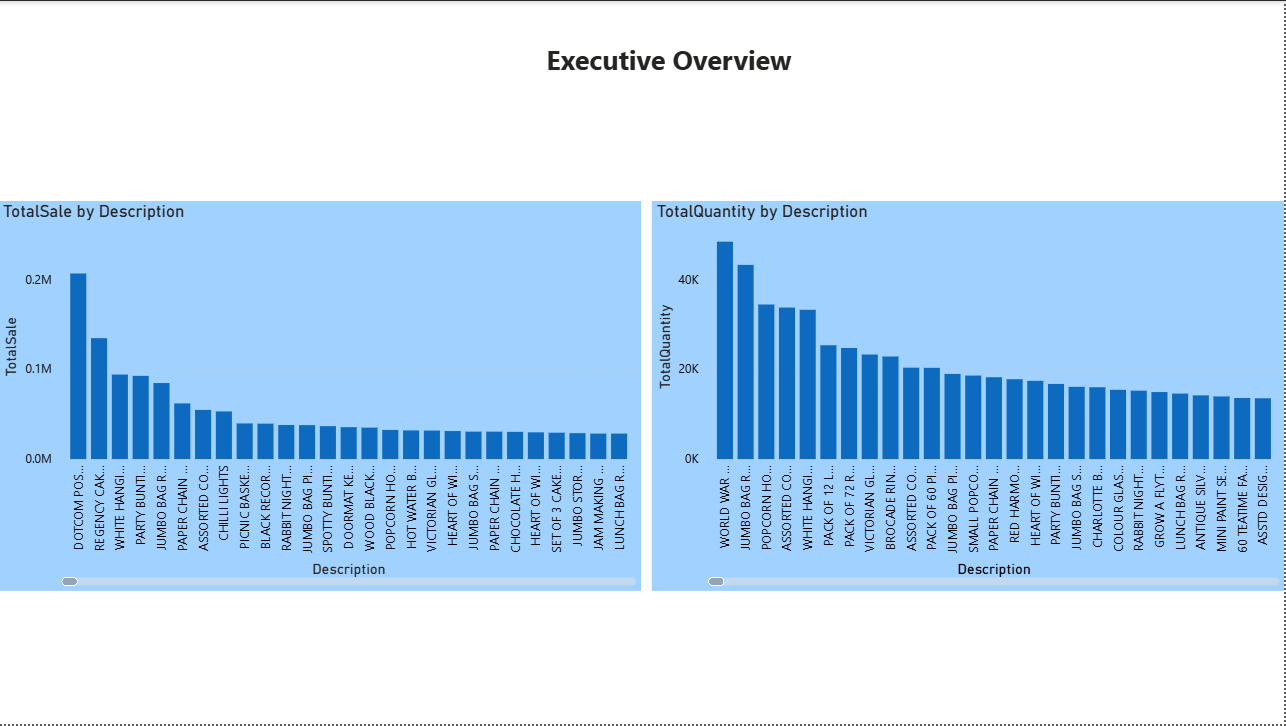

The dashboard page shown, as its layout file describes it:
{"tool":"powerbi","page":{"name":"Page 2","canvas":[1280,720],"ordinal":2},"visuals":[{"type":"columnChart","fields":{"Y":["OnlineRetail (2).TotalSale"],"Category":["OnlineRetail (2).Description"]},"box":[0,199.6,640.1,387.8],"z":0},{"type":"columnChart","fields":{"Category":["OnlineRetail (2).Description"],"Y":["OnlineRetail (2).TotalQuantity"]},"box":[650.2,199.6,630.1,387.8],"z":1000},{"type":"textbox","box":[436.8,35.1,461.9,74.1],"z":2000}]}

Visuals, with their boxes in screenshot pixels (x1, y1, x2, y2), scaled from the page's 1280x720 canvas onto the 1286x726 screenshot:
columnChart - OnlineRetail (2).TotalSale x OnlineRetail (2).Description: left=0, top=201, right=643, bottom=592
columnChart - OnlineRetail (2).Description x OnlineRetail (2).TotalQuantity: left=653, top=201, right=1285, bottom=592
textbox: left=439, top=35, right=903, bottom=110
